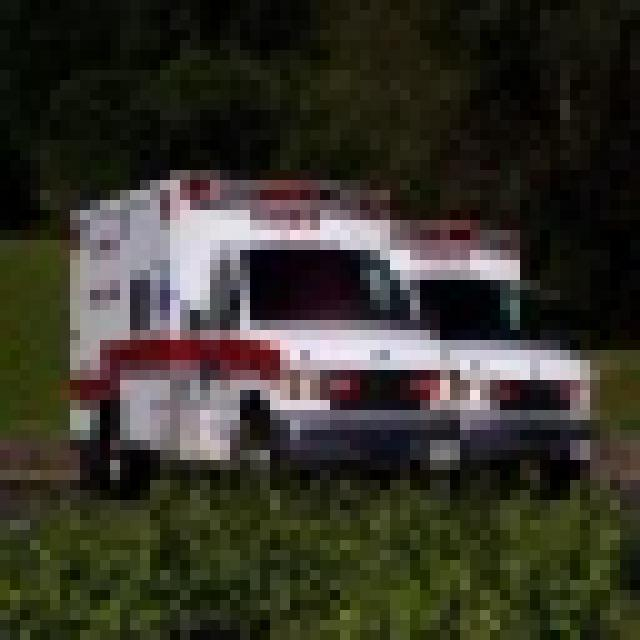Ambulance: (60, 160, 600, 490)
